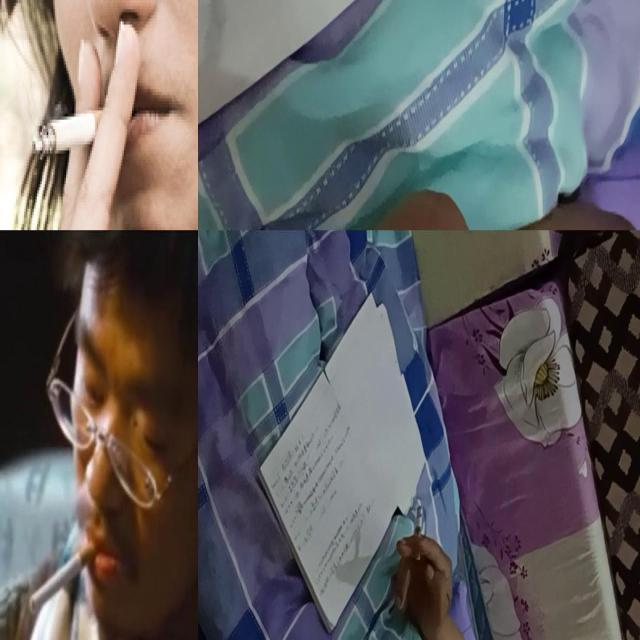smoking: (28, 537, 98, 614), (32, 104, 124, 158), (414, 506, 422, 560)
